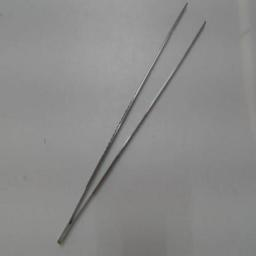DeBakey Dissector: (51, 0, 219, 252)
